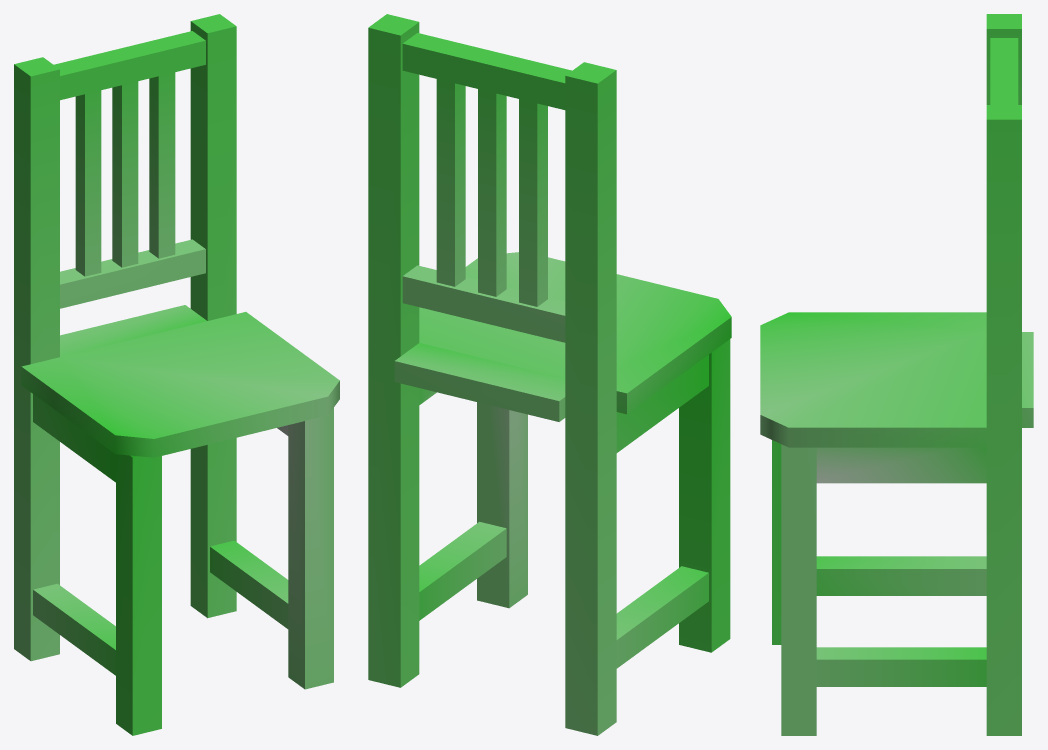
File: Chair_1.fbx
The picture shows the model from 3 angles, left to right: view 1: azimuth 30°, elevation 25°; view 2: azimuth 150°, elevation 25°; view 3: azimuth 270°, elevation 25°; orthographic projection. The views are drawn at different scales.
Visible parts, largest first — view 1: Chair_1; view 2: Chair_1; view 3: Chair_1.
Boxes of the visible parts, bbox=[...] form: Chair_1: bbox=[14, 14, 339, 735]; Chair_1: bbox=[368, 14, 731, 735]; Chair_1: bbox=[760, 14, 1033, 735].
Size of the model in its own units: 0.4636 by 1.15 by 0.4636.
